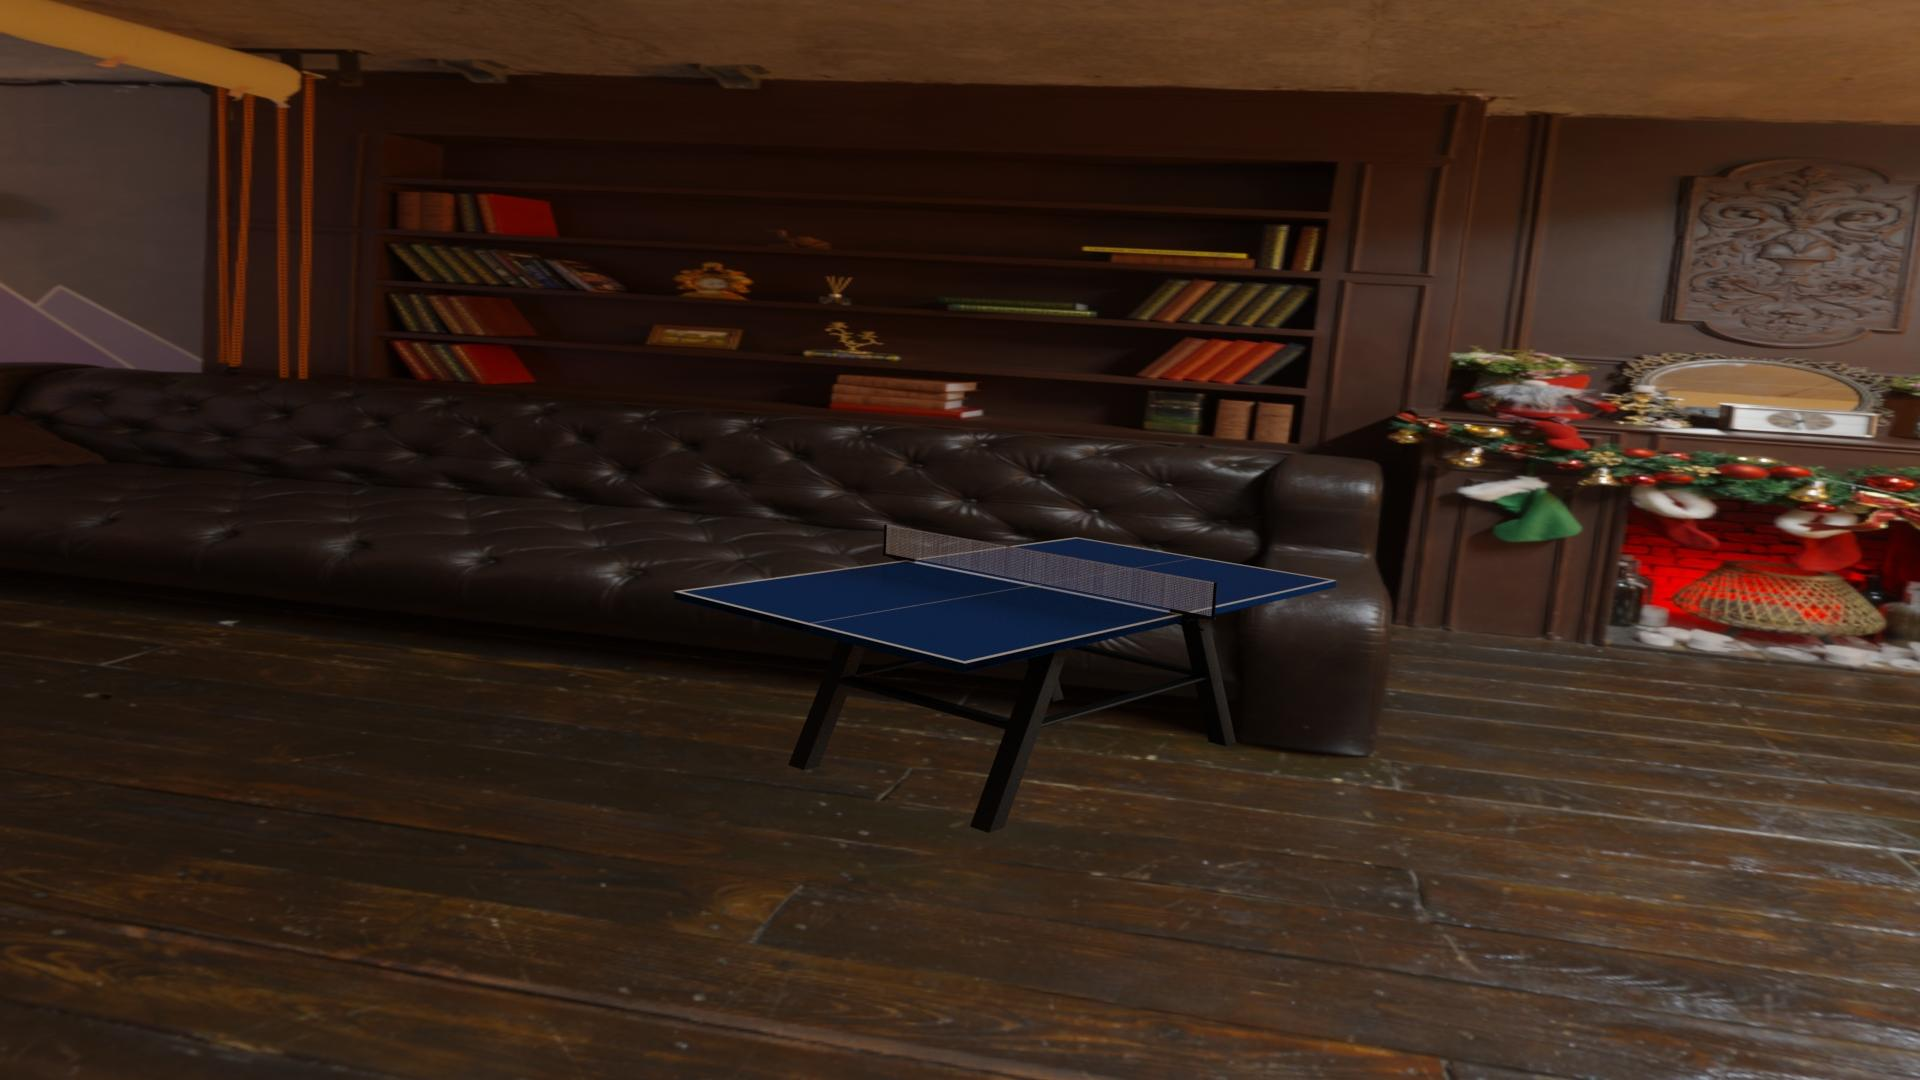table: (680, 538, 1332, 662)
